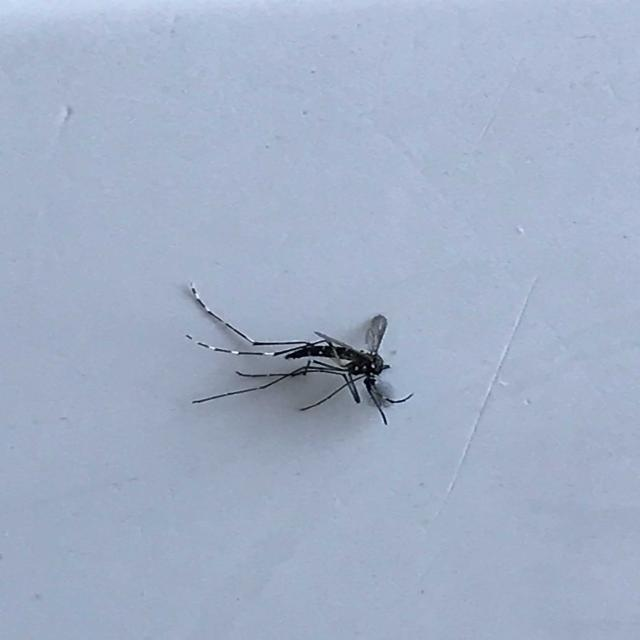albopictus: (169, 267, 425, 426)
